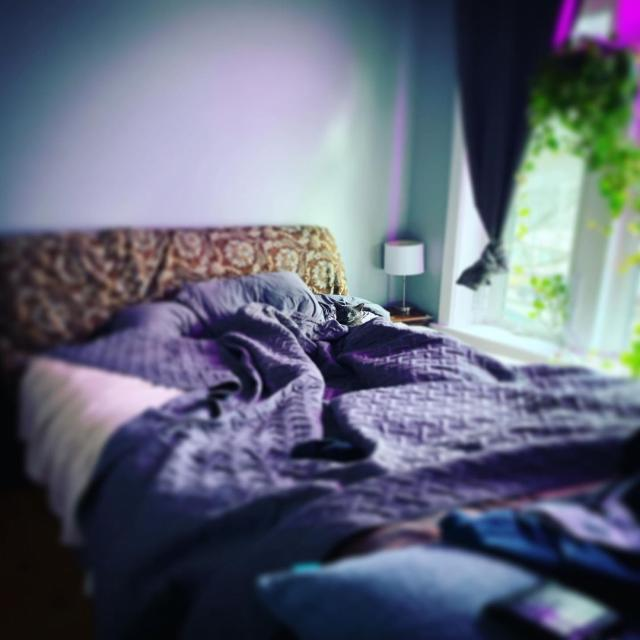bed: (10, 221, 640, 640)
